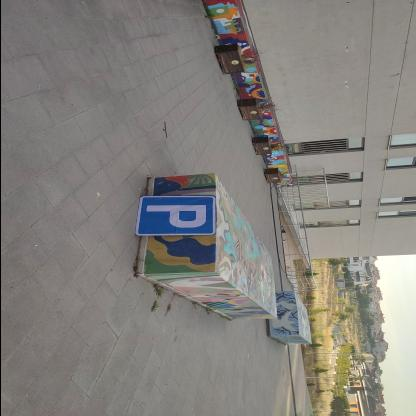Parking-Sign: (134, 197, 216, 237)
